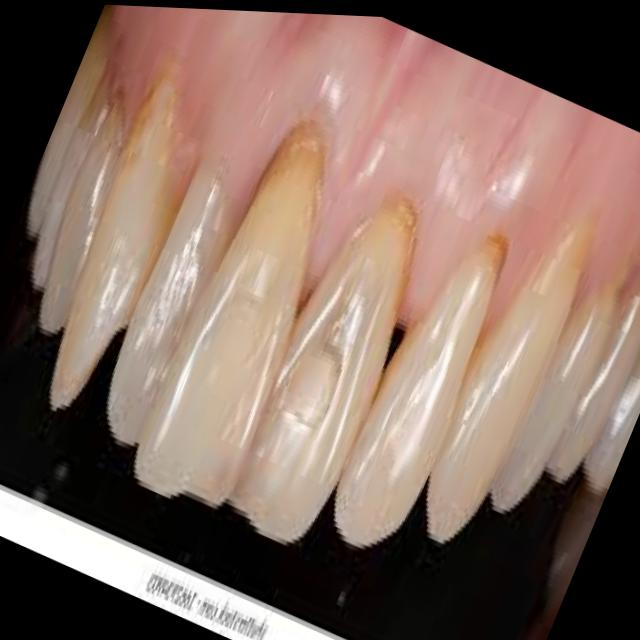tooth-discoloration: (108, 164, 231, 442), (41, 103, 124, 330)
